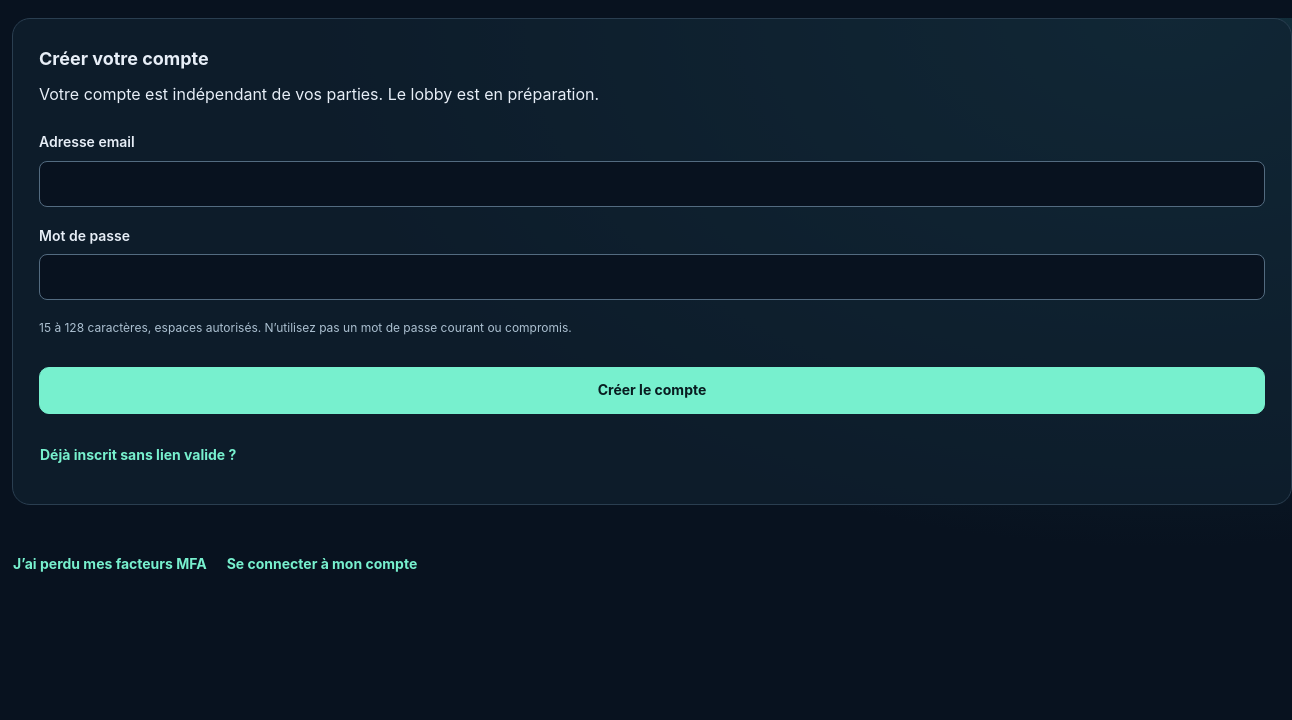
Scenario: device cap refusal is actionable and does not expose server response content
The width and height of the screenshot is (1292, 720).
Click the button "Se connecter à mon compte" at (331,564), box [226, 541, 436, 588]
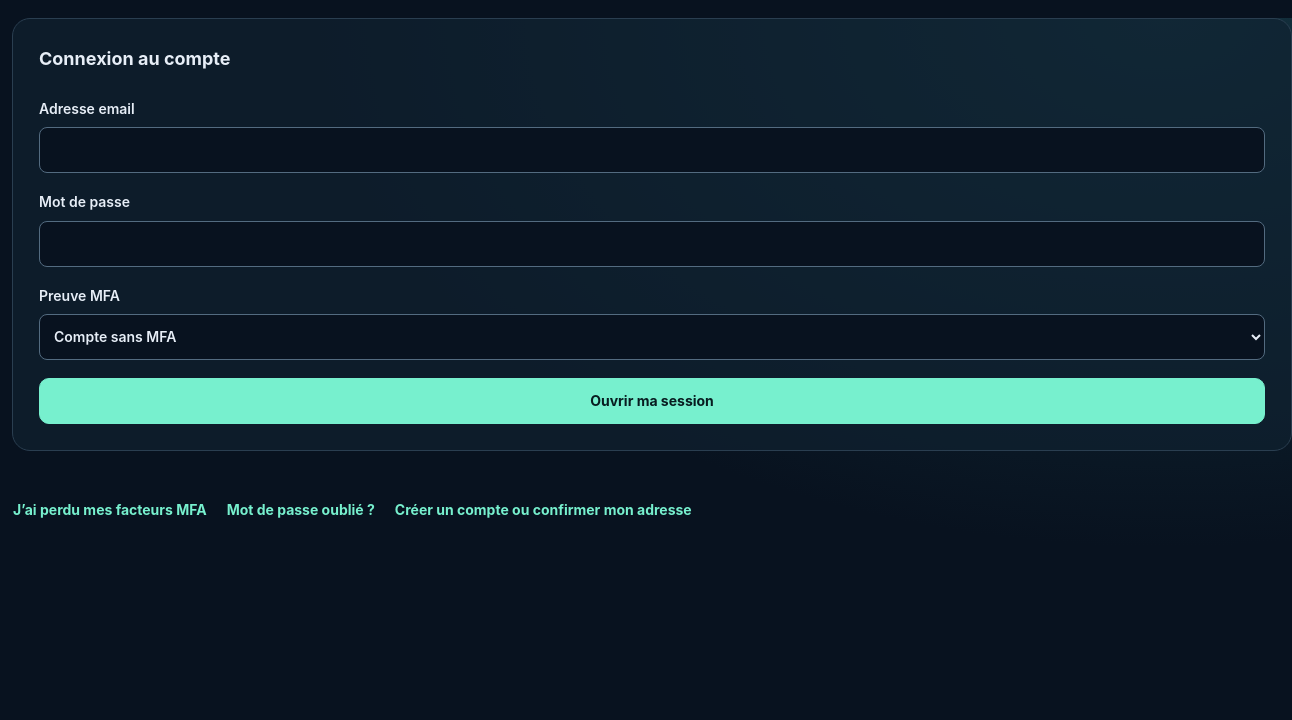
Type "player@example.org" into the field labelled "Adresse email" at (652,150), box [39, 127, 1265, 173]
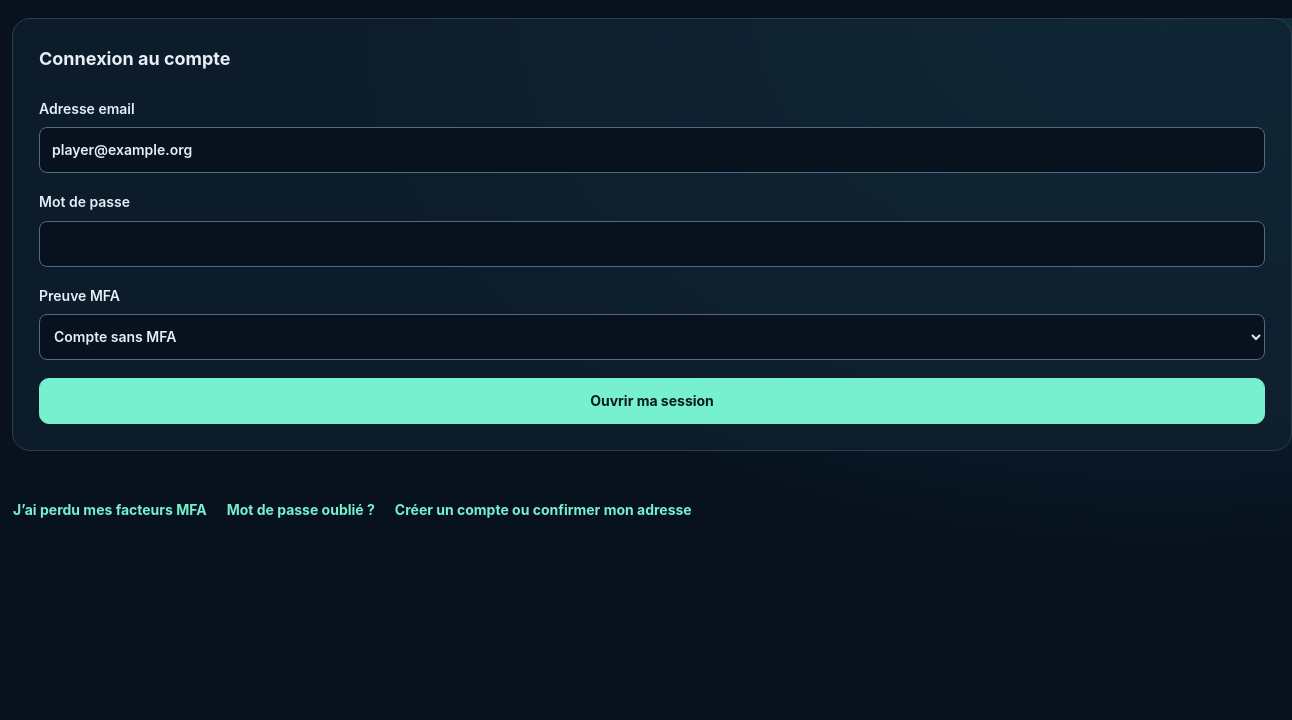
Type "Test password for C03 !" into the password field labelled "Mot de passe" at (652,244), box [39, 221, 1265, 267]
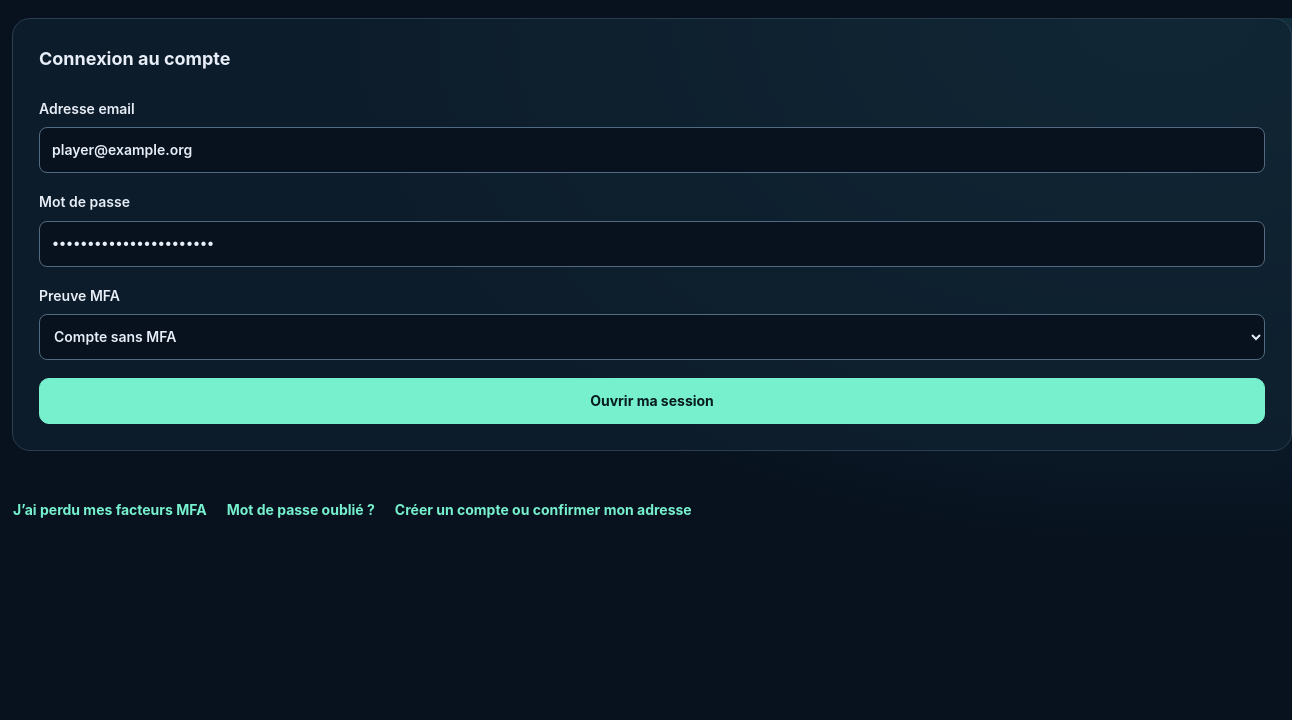
Click the button "Ouvrir ma session" at (652,401), box [39, 378, 1265, 424]
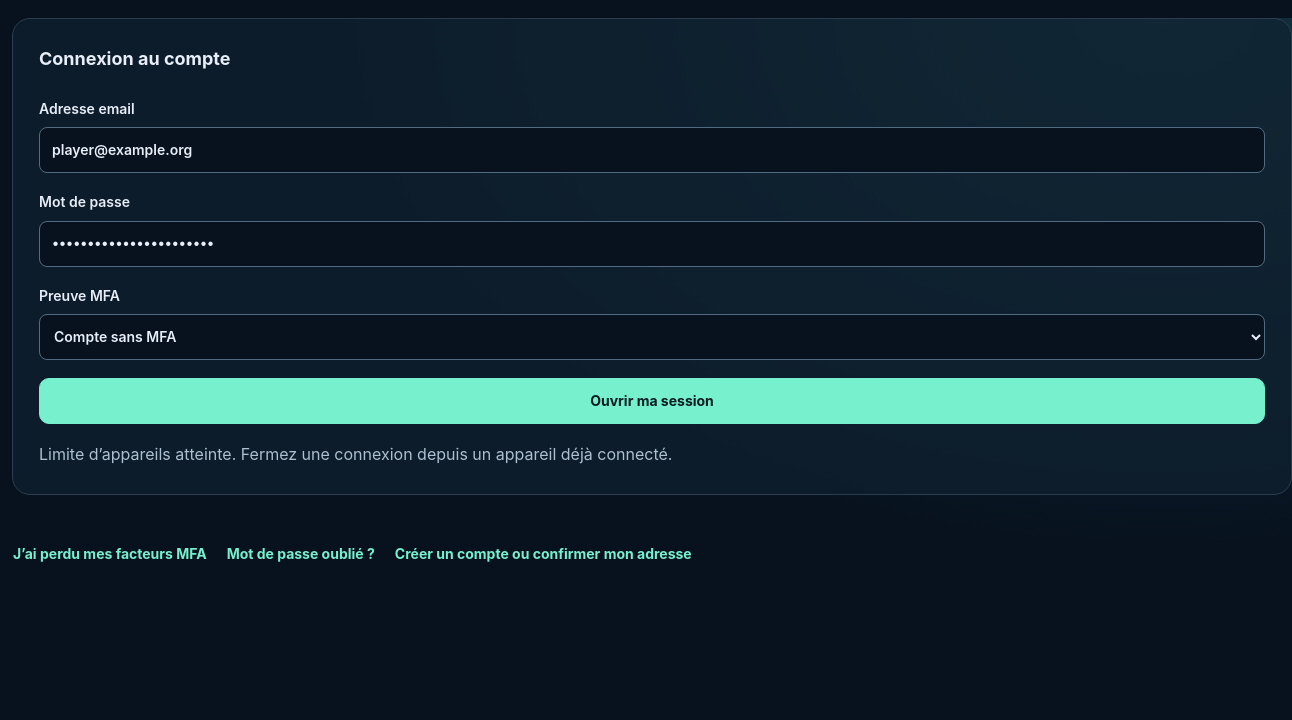
Expected: the message shows "Fermez une connexion", [39, 444, 672, 464]
